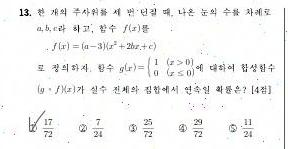choice: (26, 115, 40, 133)
not-choice: (77, 122, 88, 133), (227, 123, 238, 134), (126, 122, 137, 132), (177, 122, 187, 133)
